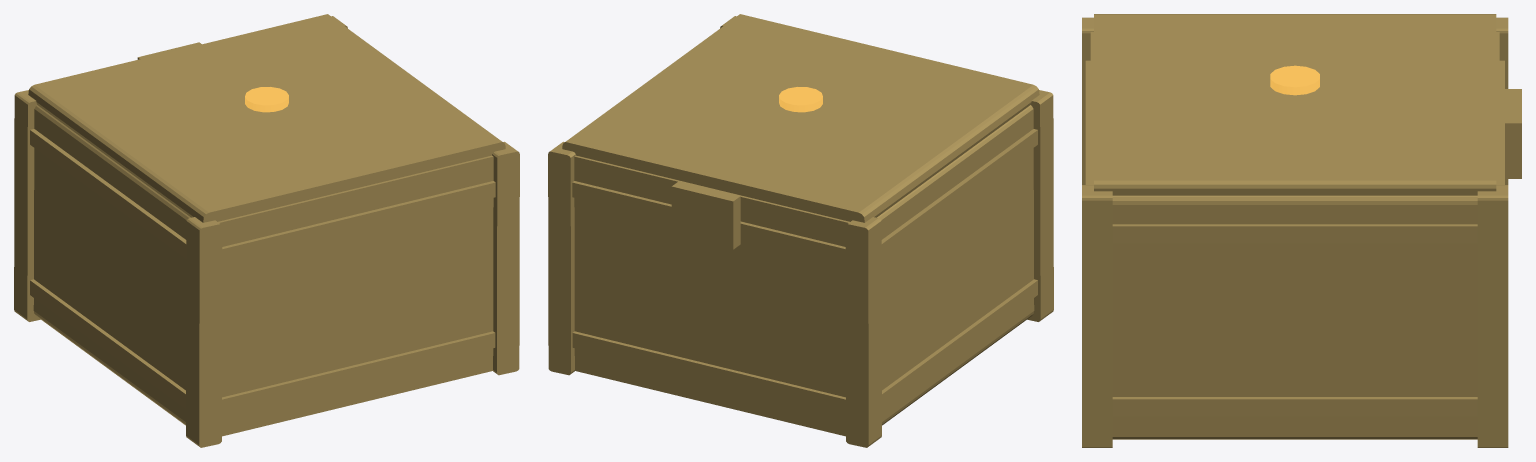
File: care_crate.glb
3 renders of one model, left to right at view 1: azimuth 30°, elevation 25°; view 2: azimuth 150°, elevation 25°; view 3: azimuth 270°, elevation 25°, orthographic. The views are drawn at different scales.
Visible parts, largest first — view 1: care_crate__care_crate, care_crate__marker; view 2: care_crate__care_crate, care_crate__marker; view 3: care_crate__care_crate, care_crate__marker.
Part boxes in pixels (x1,y1,x2,y2): care_crate__care_crate: (14, 14, 519, 447); care_crate__marker: (245, 87, 288, 112); care_crate__care_crate: (548, 14, 1053, 447); care_crate__marker: (779, 87, 822, 112); care_crate__care_crate: (1082, 14, 1521, 447); care_crate__marker: (1270, 65, 1319, 95).
Size of the model in its own units: 1.25 by 0.916 by 1.29.
